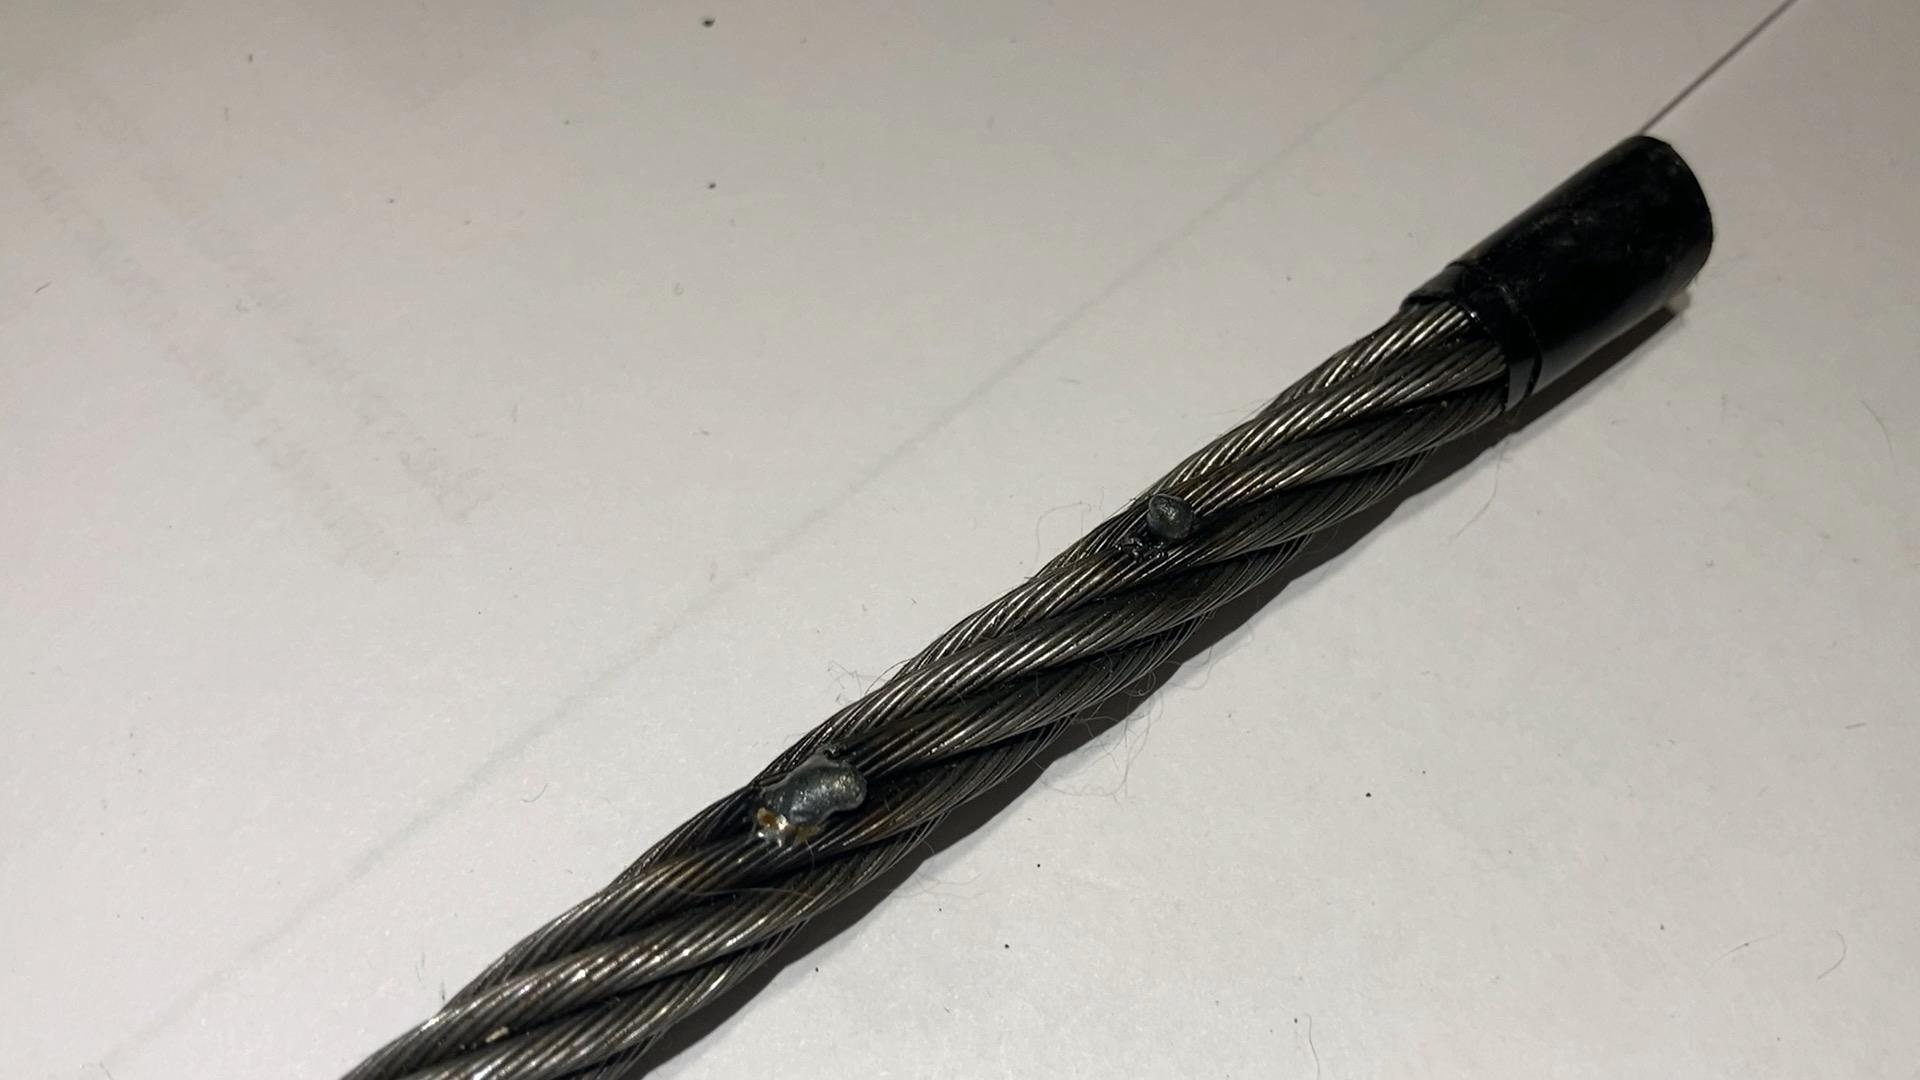thunderbolt: (1095, 500, 1221, 574), (758, 760, 881, 833)
